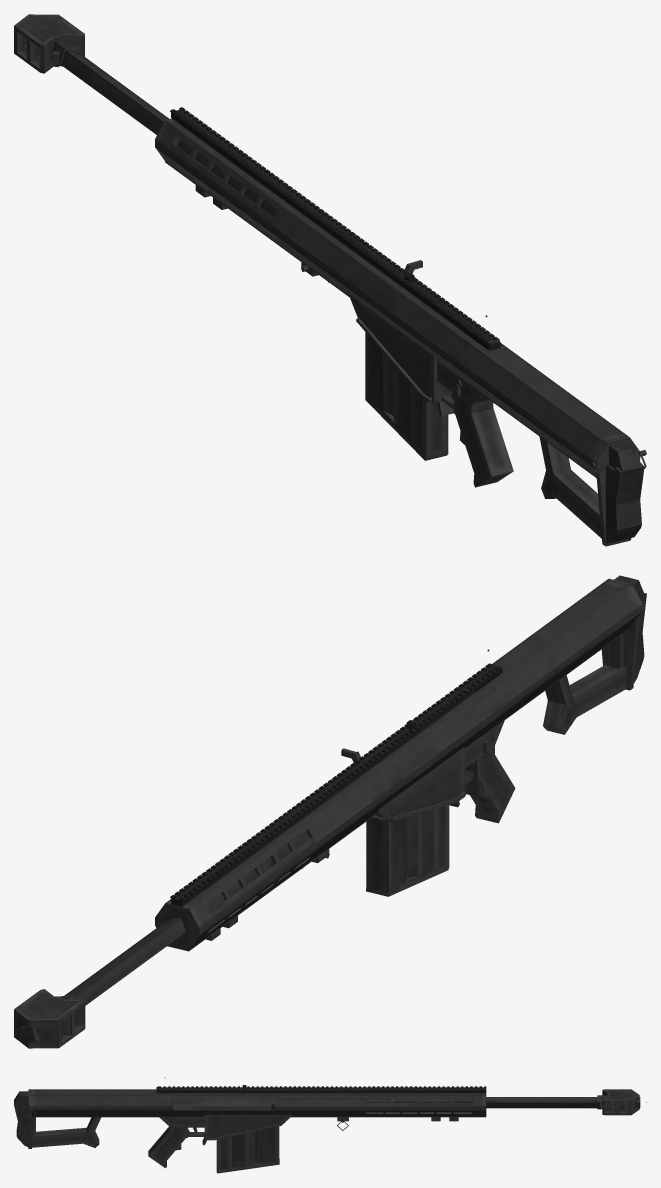
File: a8_m82barrett.geo.fbx
3 views of the same model, one above another, from view 1: azimuth 30°, elevation 25°; view 2: azimuth 150°, elevation 25°; view 3: azimuth 270°, elevation 25° (orthographic). The views are drawn at different scales.
Visible parts, largest first — view 1: upperbody, lowerbody, rail, magazine, barrel, muzdef; view 2: upperbody, lowerbody, rail, magazine, barrel, muzdef; view 3: upperbody, lowerbody, rail, magazine, barrel, muzdef, bolt.
Part boxes in pixels (box(x1,y1,x2,y2)): upperbody: box(155, 118, 646, 546); lowerbody: box(195, 185, 513, 487); rail: box(170, 107, 500, 350); magazine: box(365, 332, 448, 460); barrel: box(61, 50, 277, 217); muzdef: box(14, 14, 84, 73); upperbody: box(155, 575, 646, 951); lowerbody: box(205, 720, 515, 940); rail: box(170, 663, 502, 906); magazine: box(366, 805, 449, 896); barrel: box(64, 831, 309, 1005); muzdef: box(14, 989, 85, 1048); upperbody: box(14, 1089, 486, 1148); lowerbody: box(148, 1114, 458, 1168); rail: box(156, 1086, 486, 1093); magazine: box(216, 1122, 285, 1173); barrel: box(366, 1097, 597, 1108); muzdef: box(597, 1089, 640, 1115); bolt: box(190, 1098, 275, 1109).
Bounding box in the file's own units: 67.05 × 180 × 1106.
1 material, 1 textured.
